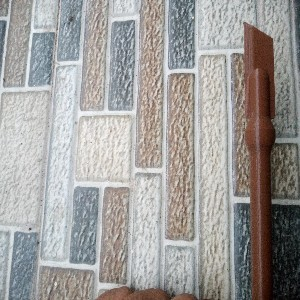cutter: (242, 19, 277, 300)
